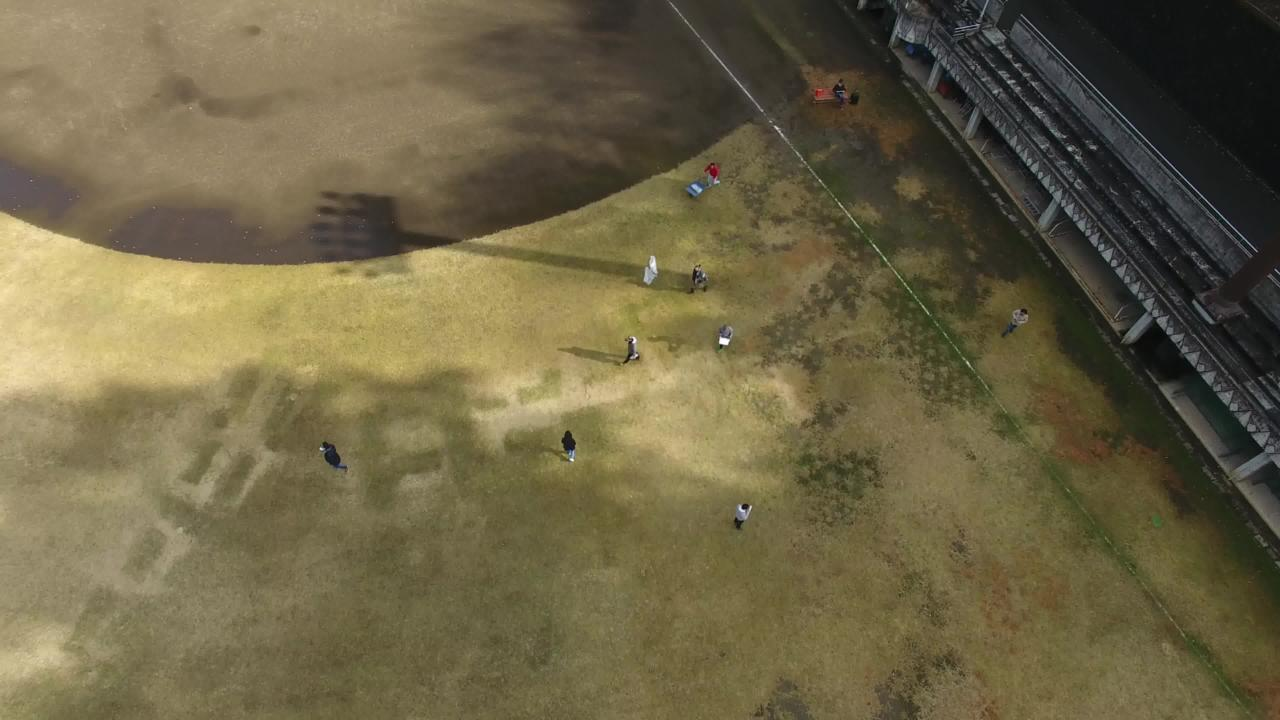person: (818, 74, 854, 117), (1000, 298, 1036, 341), (721, 488, 757, 531), (706, 316, 742, 359), (683, 254, 719, 297), (616, 326, 652, 369), (552, 425, 588, 468), (313, 438, 349, 481), (698, 154, 734, 197)
